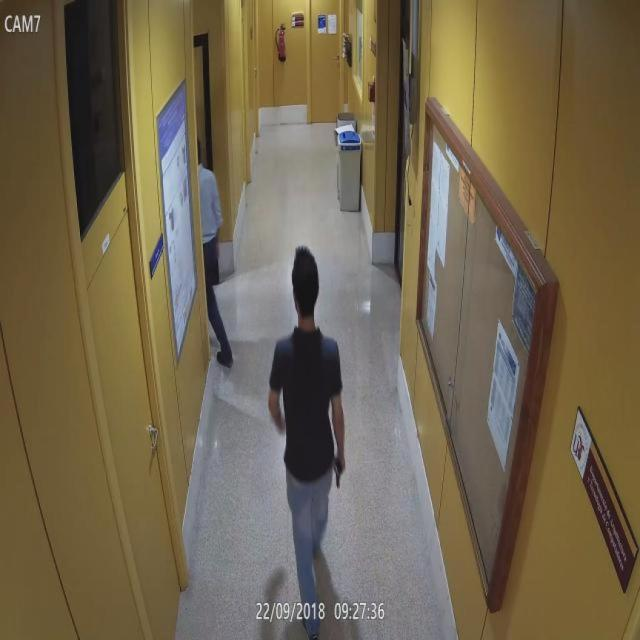pistol: (334, 455, 346, 488)
